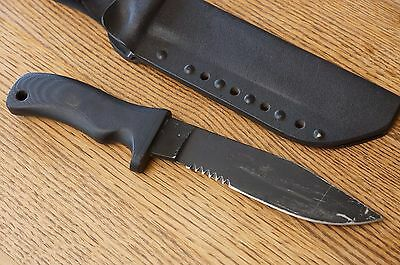knief: (12, 63, 385, 232)
